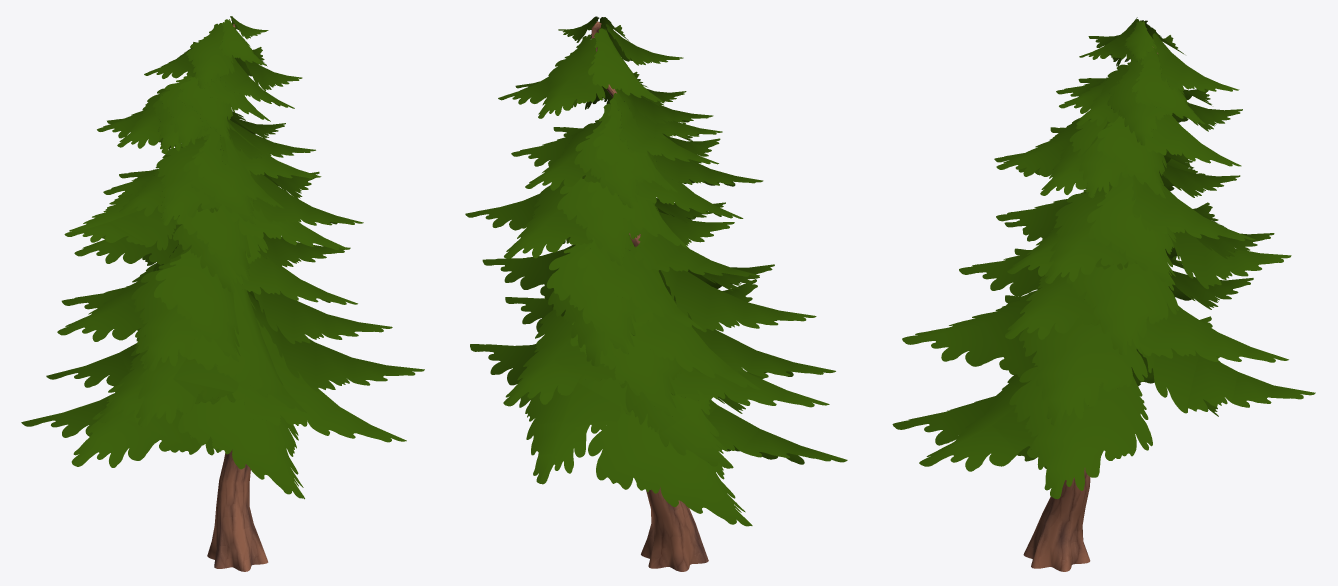
The picture shows the model from 3 angles, left to right: view 1: azimuth 30°, elevation 25°; view 2: azimuth 150°, elevation 25°; view 3: azimuth 270°, elevation 25°; orthographic projection. The views are drawn at different scales.
Parts seen in each view (by area): view 1: Pine_5; view 2: Pine_5; view 3: Pine_5.
Boxes of the visible parts, x1,y1,x2,y2 form: Pine_5: (21,16,424,571); Pine_5: (465,16,847,571); Pine_5: (892,17,1315,571).
Size of the model in its own units: 6.42 by 8.72 by 6.22.
2 materials, 2 textured.
